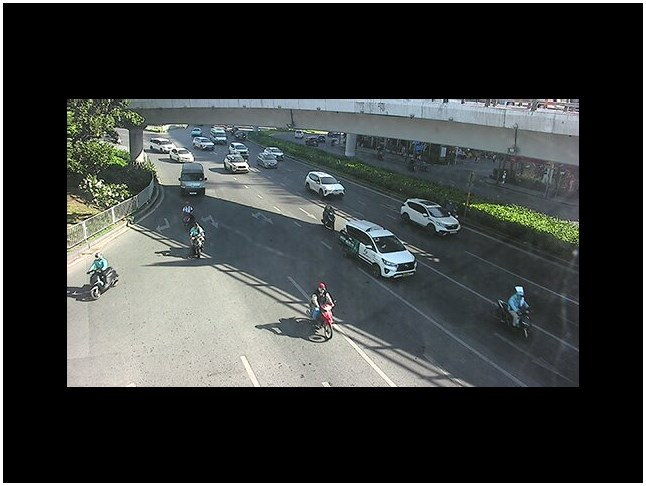car: (337, 218, 417, 279), (399, 197, 461, 236), (305, 170, 345, 197), (178, 162, 207, 195), (256, 147, 282, 169), (224, 154, 249, 173), (195, 137, 215, 150)
motorbike: (309, 303, 336, 341), (189, 233, 208, 258)
